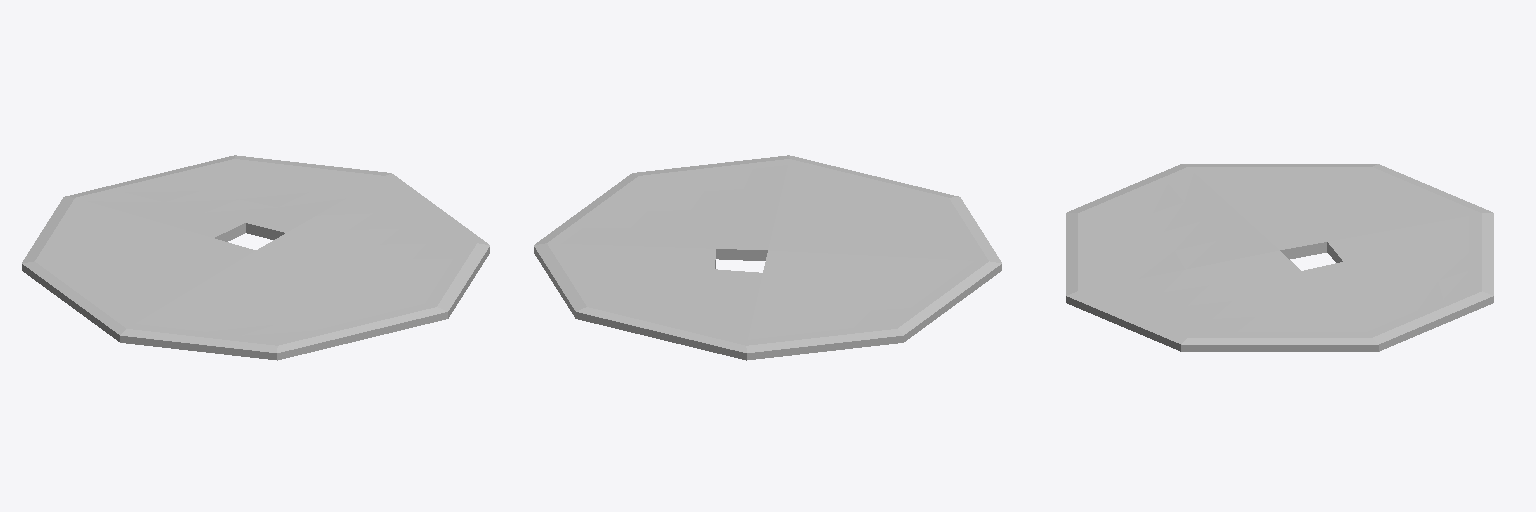
File: floor_1.obj
The picture shows the model from 3 angles: view 1: azimuth 30°, elevation 25°; view 2: azimuth 150°, elevation 25°; view 3: azimuth 270°, elevation 25°; orthographic projection.
Visible parts, largest first — view 1: floor.001; view 2: floor.001; view 3: floor.001.
Part boxes in pixels (left/top/right/bottom): floor.001: left=22, top=155, right=489, bottom=360; floor.001: left=534, top=155, right=1001, bottom=360; floor.001: left=1066, top=164, right=1493, bottom=351.
Bounding box in the file's own units: 32.5 × 0.9254 × 32.5.